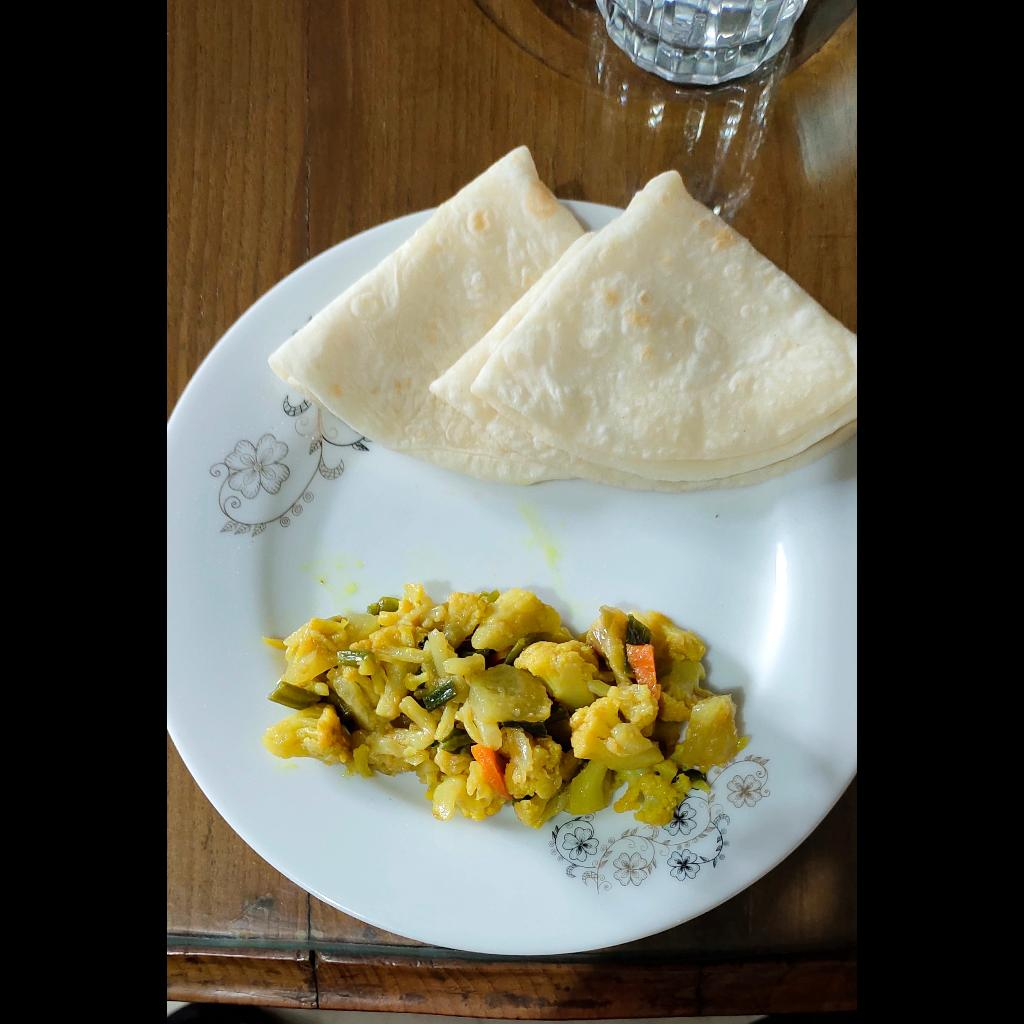ruti: (268, 144, 857, 489)
vegetable: (261, 572, 746, 835)
